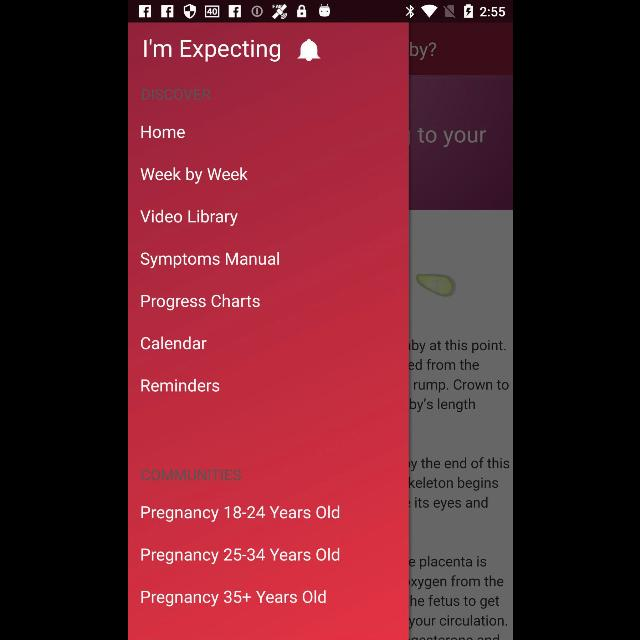icon: (296, 38, 320, 62)
panel: (128, 22, 408, 640)
text: (144, 39, 280, 63), (140, 506, 340, 522), (140, 548, 340, 564), (140, 590, 326, 606), (140, 252, 278, 268), (140, 294, 260, 310), (139, 168, 247, 185), (139, 210, 237, 227), (141, 469, 241, 481), (141, 378, 219, 392), (140, 88, 210, 102), (140, 336, 206, 350), (140, 125, 184, 138)
uppertaskbar: (128, 1, 512, 23)
